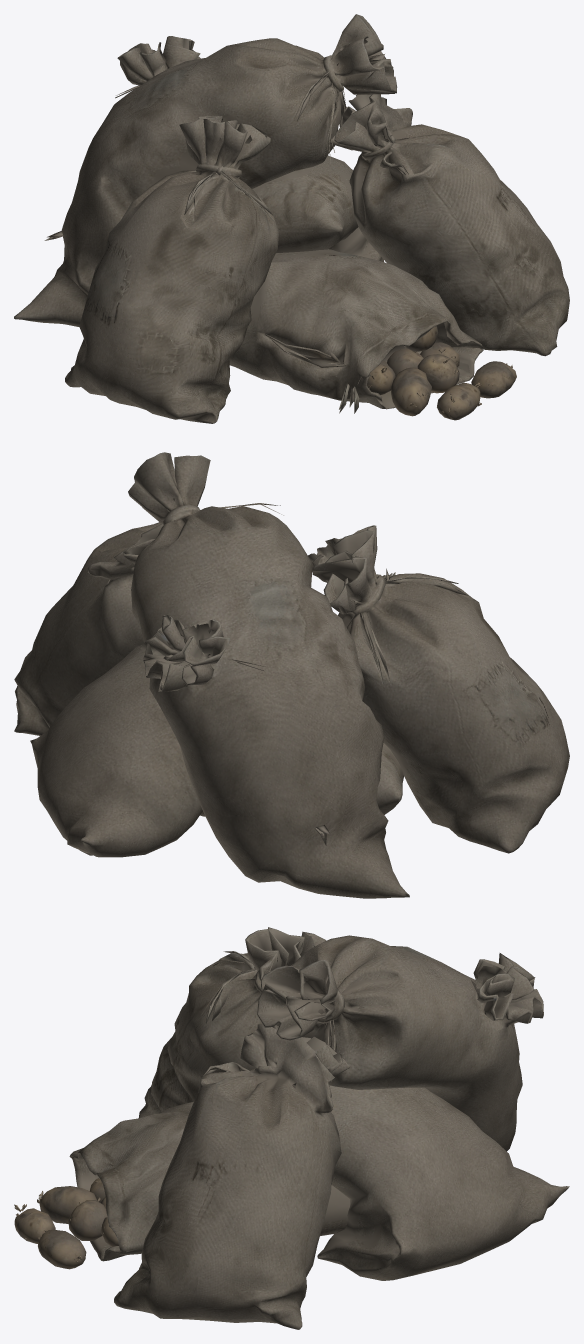
Rendered from silo81_sacks.glb.
3 views of the same model, one above another, from view 1: azimuth 30°, elevation 25°; view 2: azimuth 150°, elevation 25°; view 3: azimuth 270°, elevation 25° (orthographic). The views are drawn at different scales.
Bounding box in the file's own units: 0.9541 × 0.5688 × 0.9487.
1 material, 1 textured.
